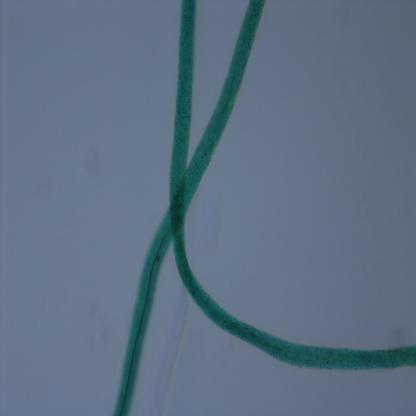Microfibre: (166, 0, 416, 370), (112, 0, 265, 416)
